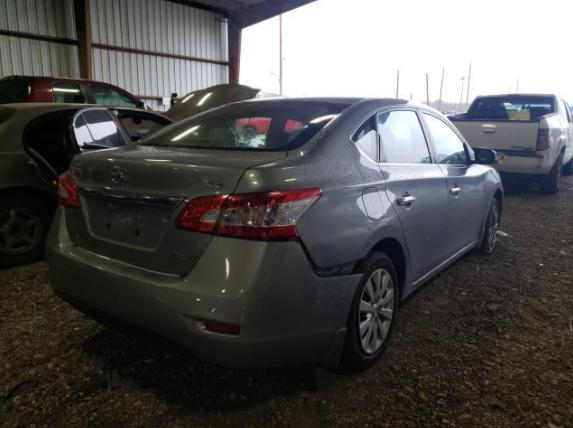Back-bumper: (45, 204, 362, 367)
Back-door: (351, 104, 457, 283)
Back-wheel: (341, 250, 400, 372)
Back-window: (377, 108, 431, 163), (352, 115, 377, 160)
Back-windshield: (137, 96, 362, 152)
Fender: (477, 163, 504, 210)
Front-door: (417, 107, 489, 252)
Front-wheel: (483, 197, 500, 253)
Front-window: (420, 113, 471, 164)
Mirror: (472, 146, 498, 164)
Quarter-panel: (230, 129, 413, 299)
Rocker-panel: (411, 238, 480, 293)
Tail-light: (174, 187, 322, 242), (57, 172, 81, 209)
Trunk: (64, 142, 288, 276)
